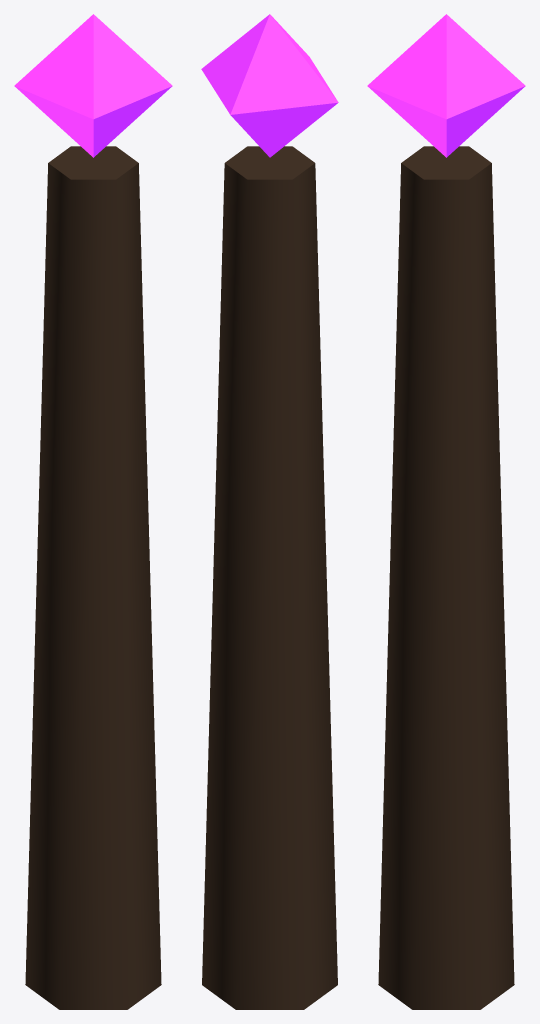
File: spectral_wisp_post.glb
3 renders of one model, left to right at view 1: azimuth 90°, elevation 25°; view 2: azimuth 150°, elevation 25°; view 3: azimuth 270°, elevation 25°, orthographic.
Size of the model in its own units: 0.28 by 1.89 by 0.28.
